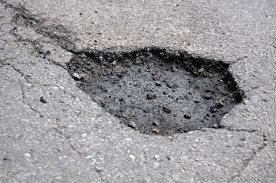pothole: (67, 45, 244, 137)
